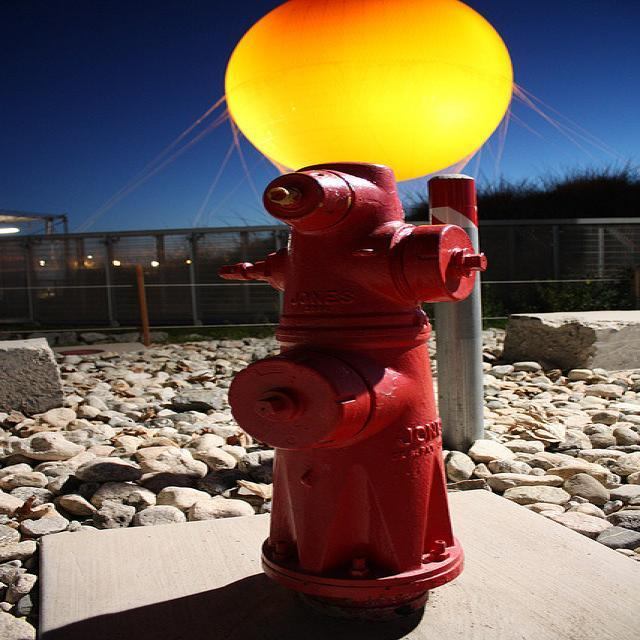fire_hydrant: (229, 155, 478, 621)
